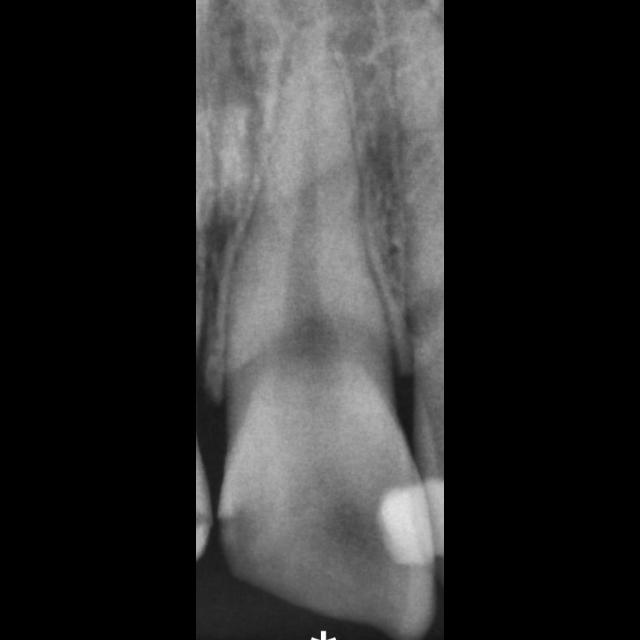tooth: (217, 27, 437, 639)
